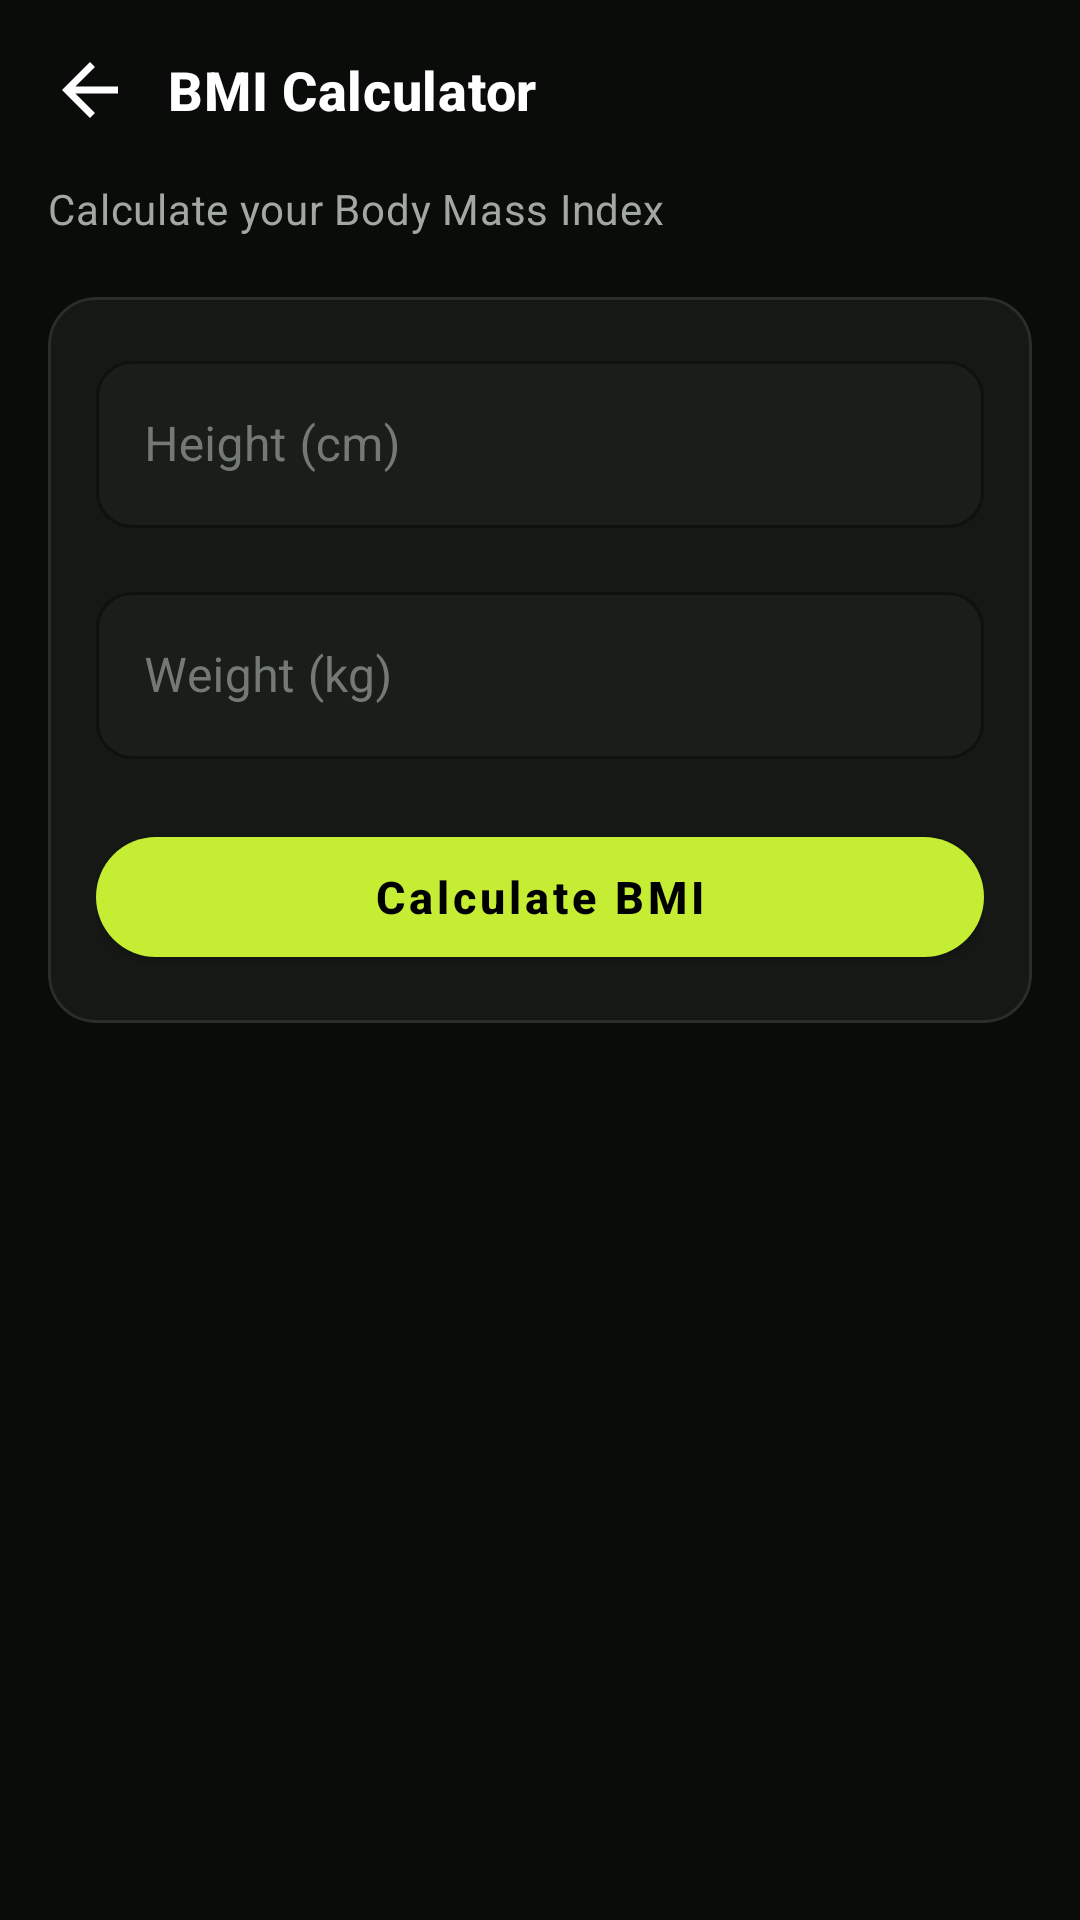

Screen size 1080*1920. Icon name, then its center in pixels as (x=x, y=y):
Back: (x=90, y=90)
